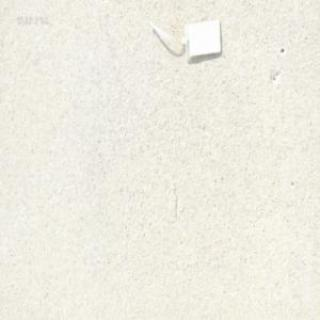LuggageTagtrack_idkeyframe: (144, 14, 222, 62)
